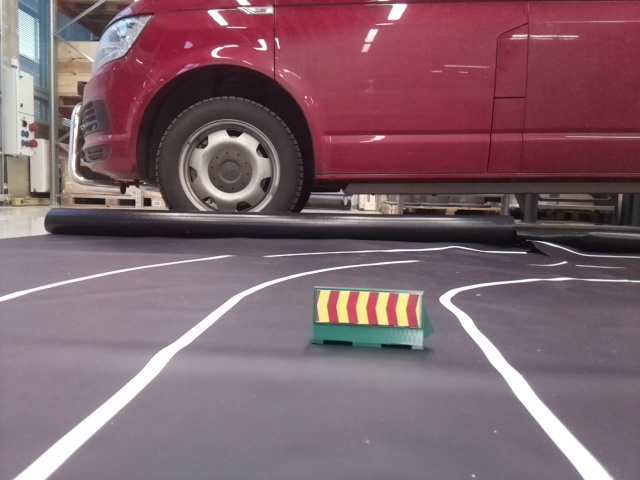ClosedRoadStand: (315, 284, 423, 350)
